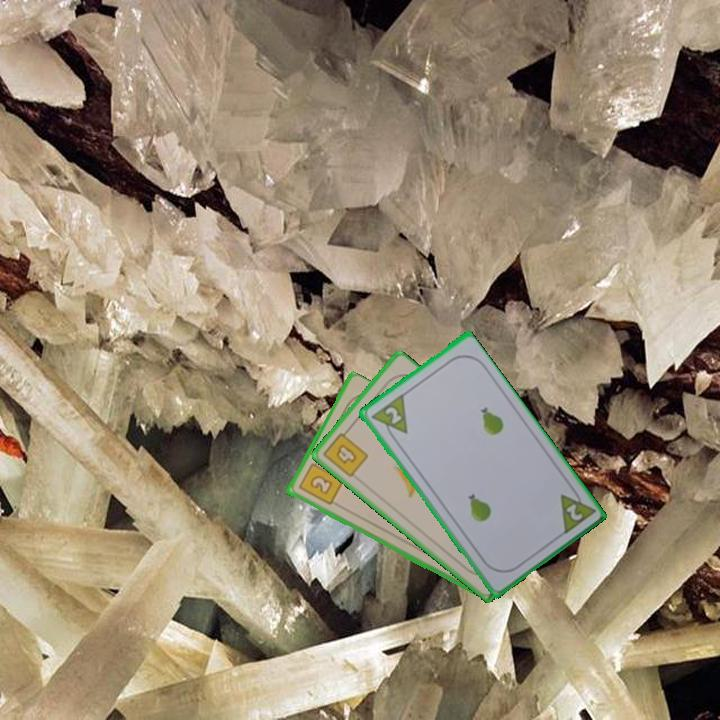2b: (295, 455, 346, 508)
2p: (556, 482, 597, 538), (381, 403, 404, 427)
4b: (319, 425, 371, 480)
